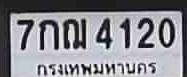0: (158, 17, 174, 47)
1: (119, 17, 129, 48)
2: (137, 17, 153, 47)
4: (95, 17, 111, 48)
7: (16, 18, 33, 49)
A01: (38, 18, 58, 49)
A12: (62, 17, 86, 48)
BKK: (34, 59, 157, 77)
